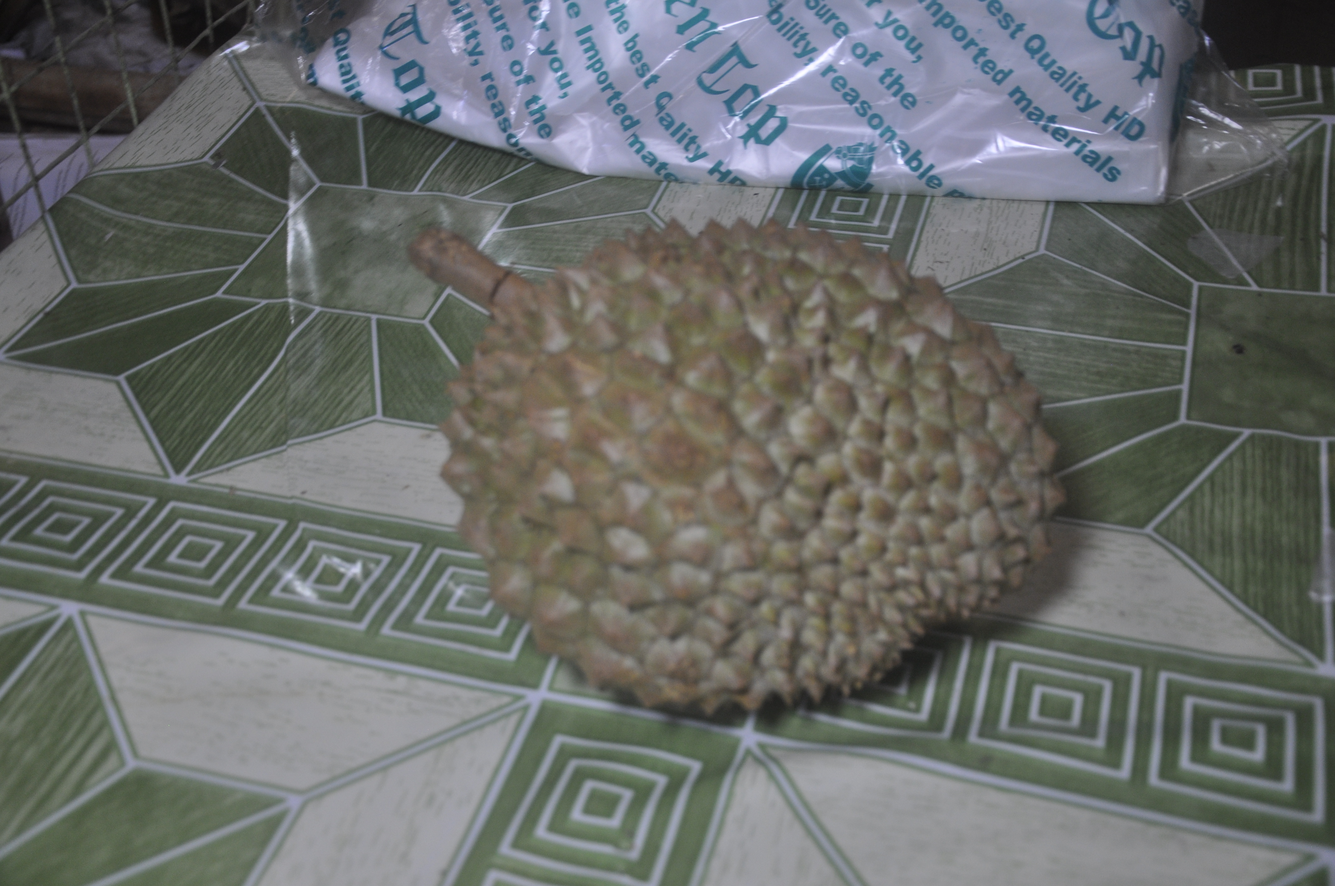mature: (409, 222, 1062, 723)
